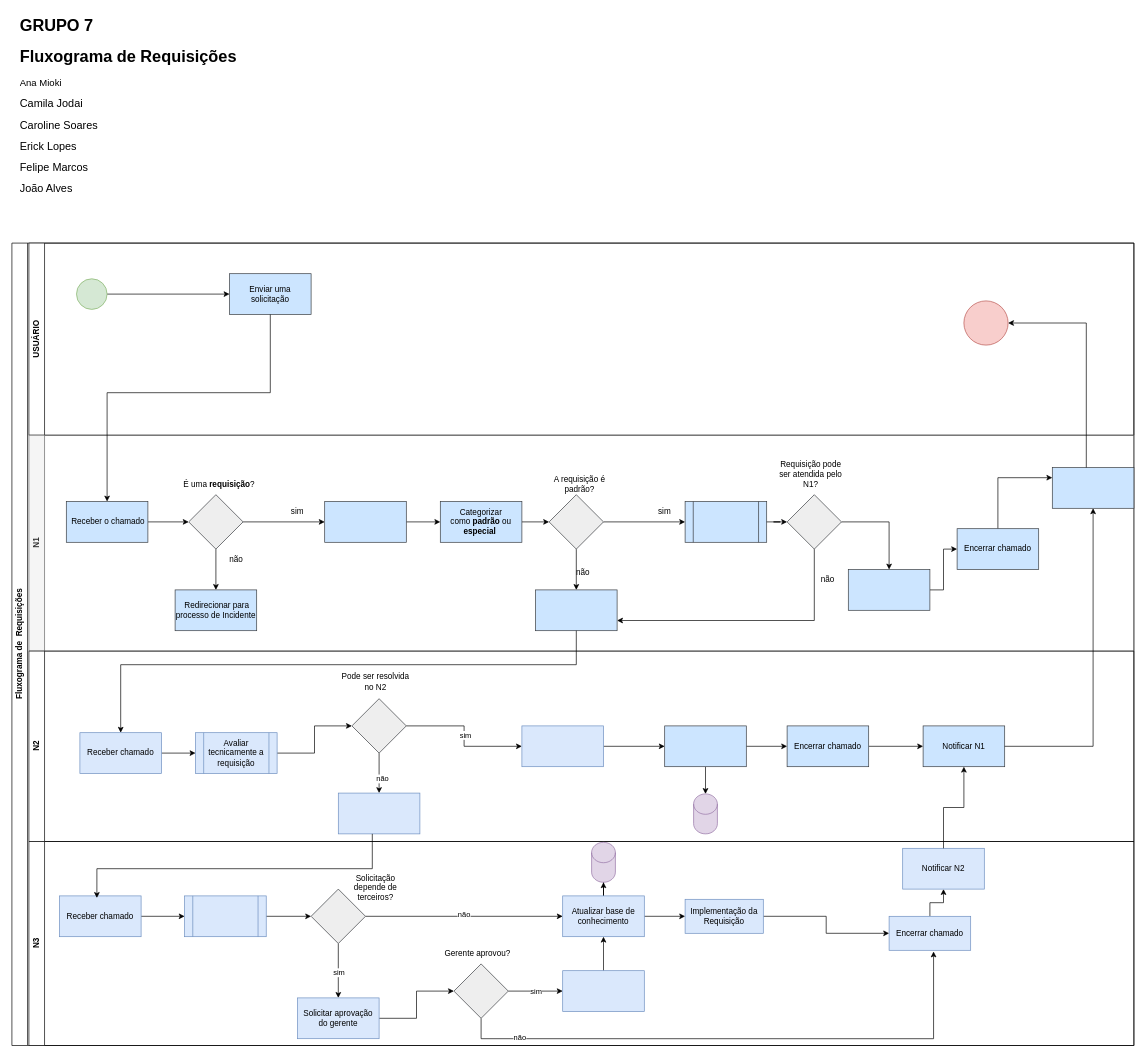
Some shapes in this 1146 by 1057 pixel diagram are drawn without their labels. The shapes that lost their labels are listed below. From the top down, each one's centre as x and y in pixels, then its label:
At (1093,487): "Notificar usuáio".
At (365,521): "Registrar chamado".
At (725,521): "Priorizar Aplica regras do SLA".
At (889,589): "N1 atende diretamente".
At (576,610): "Encaminhar para N2".
At (562,746): "N2 atende diretamente".
At (705,746): "Atualizar a base de conhecimento".
At (379,813): "Encaminhar para N3".
At (225,916): "Análise Técnica Avançada".
At (603,991): "Documentar a Aprovação".
